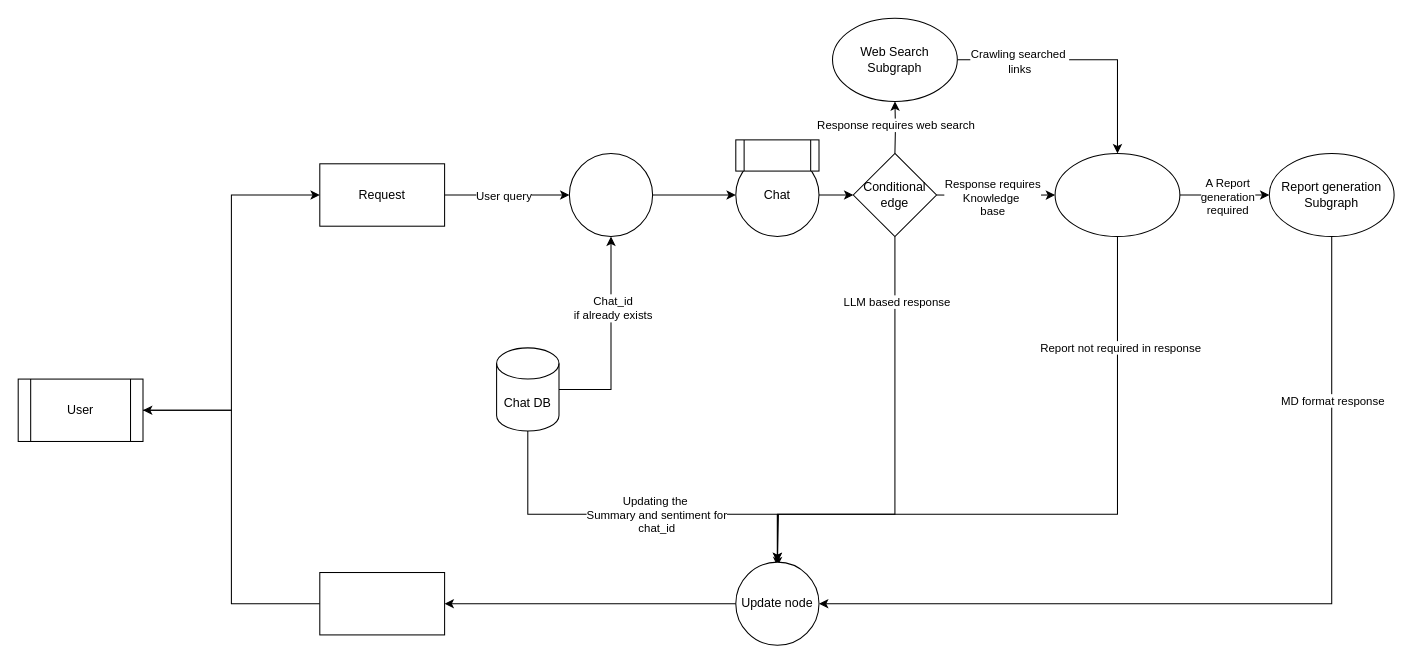
Some shapes in this 1412 by 664 pixel diagram are drawn without their labels. The centre of each missing label's shape, as x and y in pixels:
"Init node" goes at (x=610, y=194).
"LLM" goes at (x=777, y=155).
"Response" goes at (x=382, y=603).
"Scrape and create Knowledge base Subgraph" goes at (x=1117, y=194).
